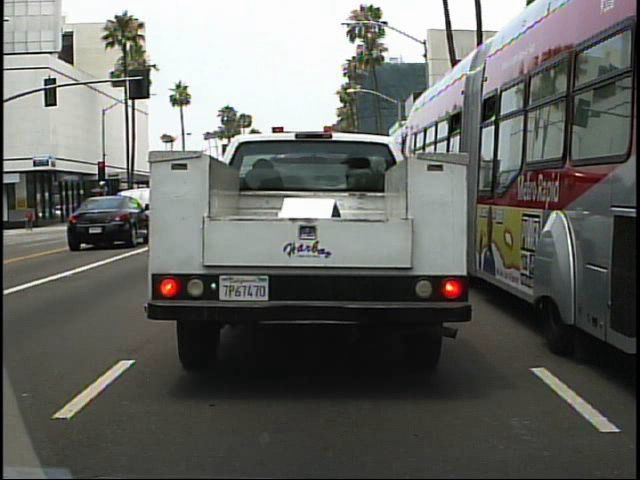person: (24, 205, 39, 235)
